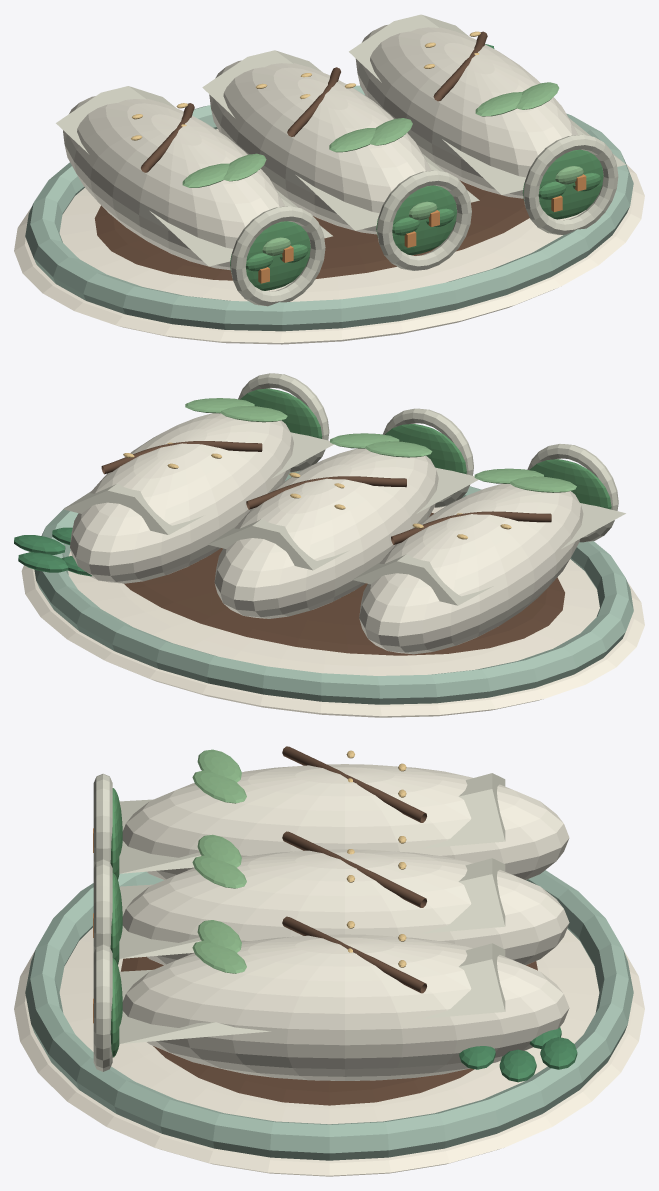
The model's file is garden_rice_roll.glb.
3 views of the same model, one above another, from view 1: azimuth 30°, elevation 25°; view 2: azimuth 150°, elevation 25°; view 3: azimuth 270°, elevation 25° (orthographic). The views are drawn at different scales.
Visible parts, largest first — view 1: garden_oval_plate_rolled_rim, garden_oval_plate_base, rice_roll_0, rice_roll_2, rice_roll_1, soy_sauce_pool, rice_sheet_cut_lip_1, rice_sheet_cut_lip_2, rice_sheet_cut_lip_0, folded_rice_flap_1, folded_rice_flap_0, folded_rice_flap_2 (+12 smaller); view 2: garden_oval_plate_base, rice_roll_0, garden_oval_plate_rolled_rim, rice_roll_1, rice_roll_2, soy_sauce_pool, folded_rice_flap_0, folded_rice_flap_1, folded_rice_flap_2, rice_sheet_cut_lip_2, rice_sheet_cut_lip_0, rice_sheet_cut_lip_1 (+14 smaller); view 3: rice_roll_2, garden_oval_plate_rolled_rim, garden_oval_plate_base, rice_roll_0, rice_roll_1, soy_sauce_pool, folded_rice_flap_2, folded_rice_flap_1, folded_rice_flap_0, rice_sheet_cut_lip_2, rice_sheet_cut_lip_0, rice_sheet_cut_lip_1 (+15 smaller).
Boxes of the visible parts, left/top/right/bottom form: garden_oval_plate_rolled_rim: left=25, top=85, right=633, bottom=331; garden_oval_plate_base: left=14, top=129, right=644, bottom=344; rice_roll_0: left=63, top=96, right=285, bottom=270; rice_roll_2: left=355, top=25, right=577, bottom=198; rice_roll_1: left=209, top=60, right=431, bottom=234; soy_sauce_pool: left=94, top=180, right=529, bottom=280; rice_sheet_cut_lip_1: left=377, top=170, right=471, bottom=270; rice_sheet_cut_lip_2: left=523, top=134, right=618, bottom=234; rice_sheet_cut_lip_0: left=230, top=206, right=325, bottom=306; folded_rice_flap_1: left=202, top=50, right=479, bottom=230; folded_rice_flap_0: left=56, top=86, right=332, bottom=266; folded_rice_flap_2: left=349, top=14, right=625, bottom=194; garden_oval_plate_base: left=21, top=506, right=644, bottom=717; rice_roll_0: left=359, top=483, right=583, bottom=654; garden_oval_plate_rolled_rim: left=34, top=471, right=633, bottom=704; rice_roll_1: left=214, top=448, right=438, bottom=618; rice_roll_2: left=70, top=413, right=293, bottom=583; soy_sauce_pool: left=124, top=513, right=564, bottom=655; folded_rice_flap_0: left=352, top=503, right=625, bottom=605; folded_rice_flap_1: left=208, top=467, right=478, bottom=570; folded_rice_flap_2: left=63, top=432, right=333, bottom=534; rice_sheet_cut_lip_2: left=238, top=373, right=329, bottom=472; rice_sheet_cut_lip_0: left=527, top=444, right=618, bottom=542; rice_sheet_cut_lip_1: left=382, top=408, right=473, bottom=507; rice_roll_2: left=122, top=934, right=569, bottom=1080; garden_oval_plate_rolled_rim: left=25, top=870, right=633, bottom=1160; garden_oval_plate_base: left=14, top=928, right=644, bottom=1176; rice_roll_0: left=122, top=764, right=569, bottom=880; rice_roll_1: left=122, top=849, right=569, bottom=965; soy_sauce_pool: left=121, top=956, right=537, bottom=1105; folded_rice_flap_2: left=119, top=943, right=505, bottom=1044; folded_rice_flap_1: left=119, top=858, right=505, bottom=958; folded_rice_flap_0: left=119, top=773, right=505, bottom=873; rice_sheet_cut_lip_2: left=93, top=944, right=112, bottom=1071; rice_sheet_cut_lip_0: left=93, top=773, right=112, bottom=867; rice_sheet_cut_lip_1: left=93, top=859, right=112, bottom=952.
Bounding box in the file's own units: 0.92 × 0.227 × 0.736.
